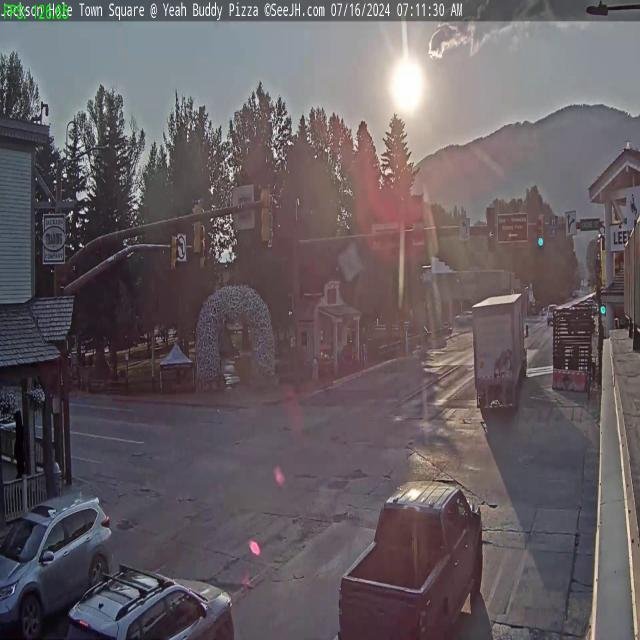suv: (336, 470, 496, 640), (0, 492, 114, 640), (72, 566, 240, 640)
traffic light: (260, 184, 274, 244), (190, 198, 204, 254), (167, 230, 180, 276), (487, 206, 496, 251), (536, 214, 546, 248)
truck: (466, 284, 528, 418)
